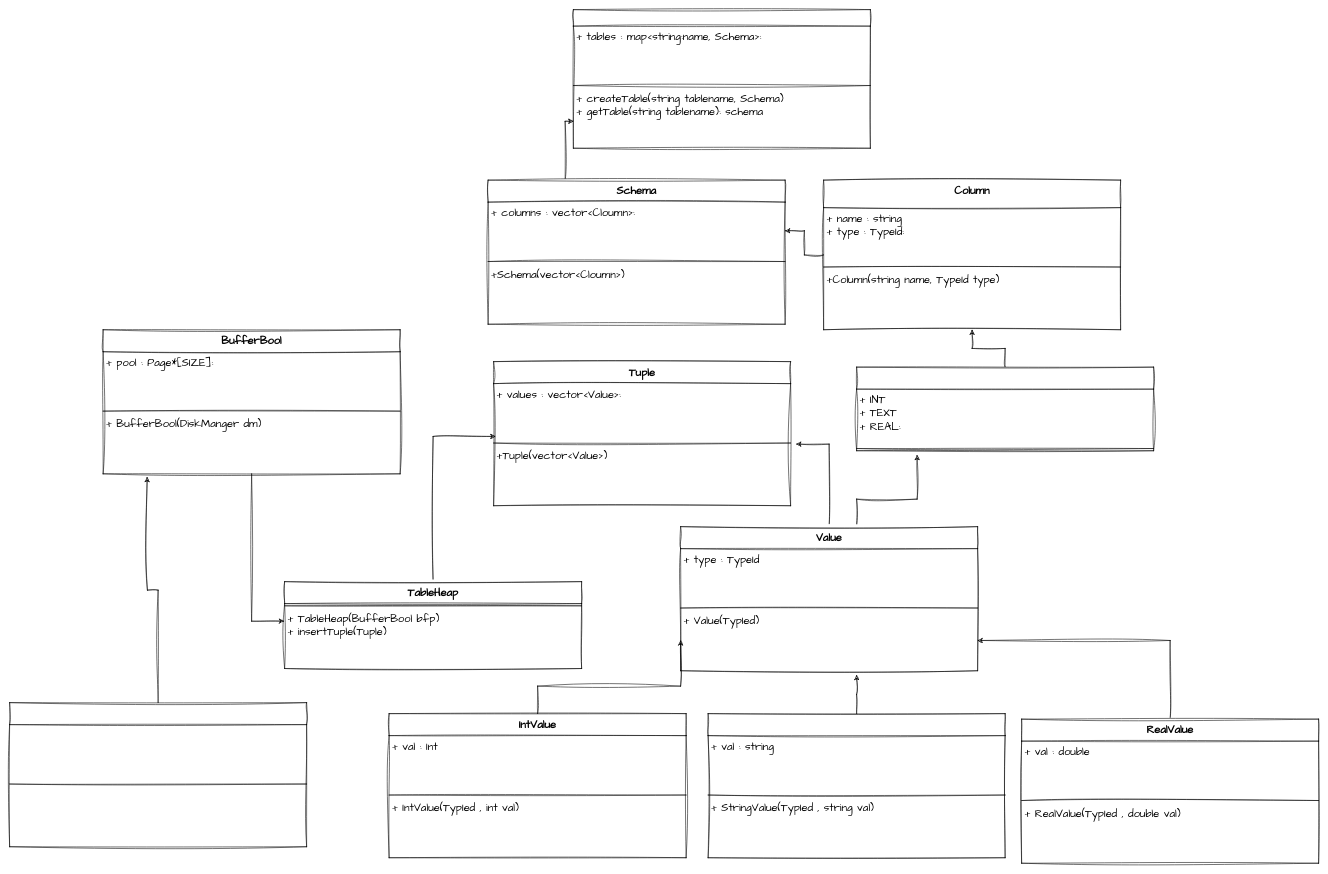
The diagram is 1328 pixels wide and 874 high, and some of its shapes have lost their labels. The box of each missing label's shape, as (x1, y1, x2, y2) in pixels:
Catalog: (573, 9, 870, 148)
DiskManager: (9, 702, 307, 847)
enum TypeId: (856, 367, 1154, 451)
TextValue: (708, 713, 1005, 858)
